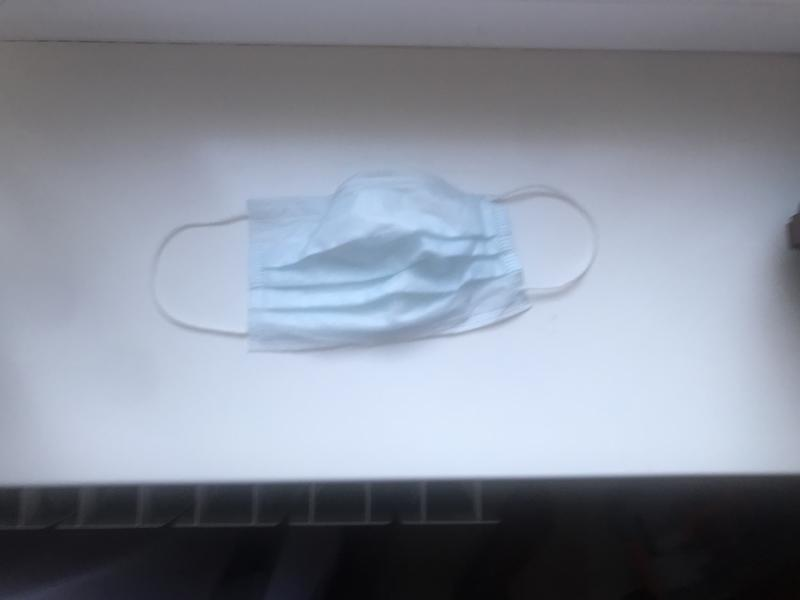medical_mask: (153, 171, 598, 351)
